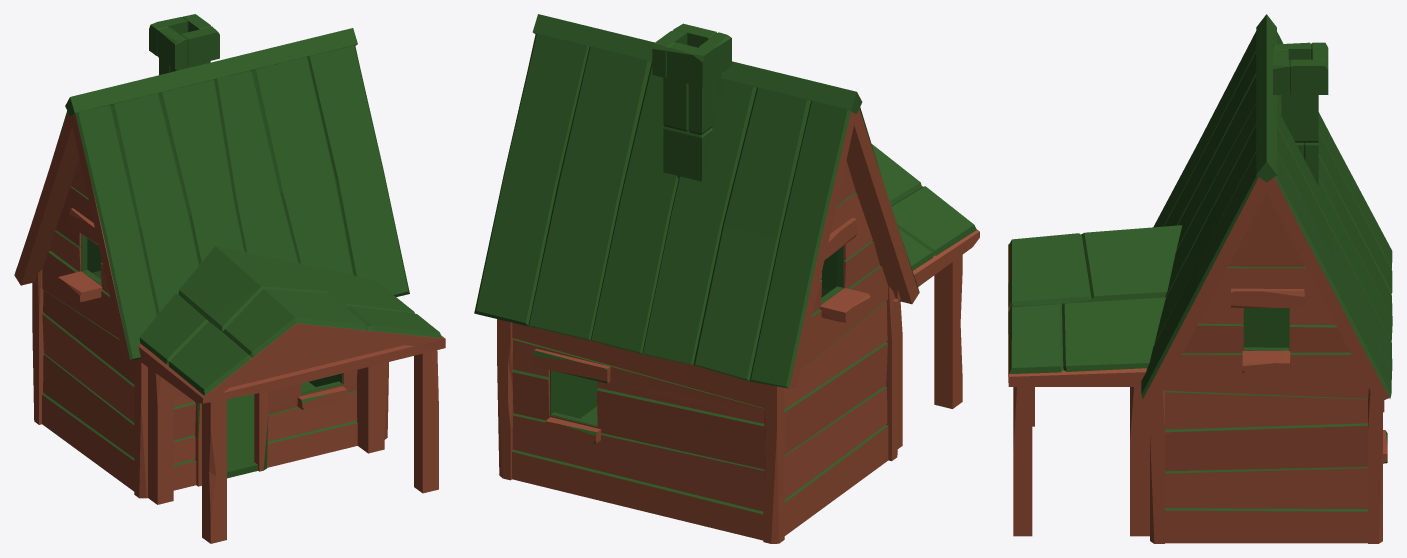
Rendered from House.fbx.
The picture shows the model from 3 angles, left to right: view 1: azimuth 30°, elevation 25°; view 2: azimuth 150°, elevation 25°; view 3: azimuth 270°, elevation 25°; orthographic projection. The views are drawn at different scales.
Parts seen in each view (by area): view 1: House_8; view 2: House_8; view 3: House_8.
Part boxes in pixels (x1,y1,x2,y2): House_8: [14, 14, 445, 543]; House_8: [474, 14, 979, 543]; House_8: [1008, 14, 1392, 543].
Bounding box in the file's own units: 143 × 187 × 155.
